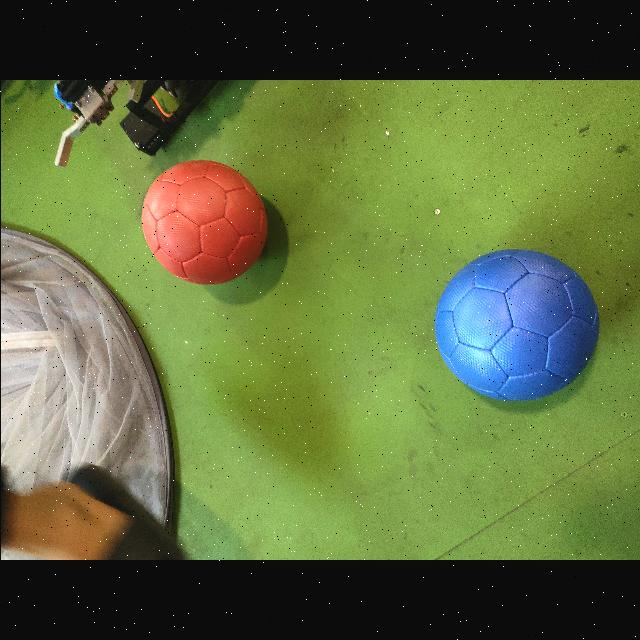B: (433, 248, 602, 404)
R: (141, 159, 270, 286)
